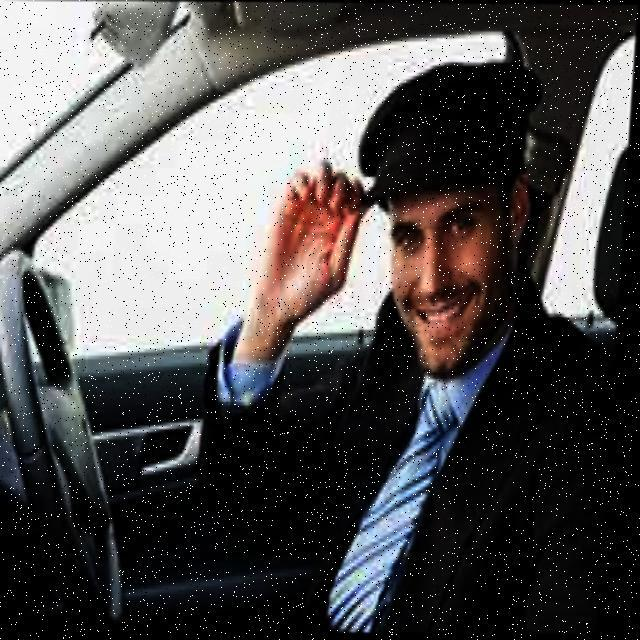noSeatbelt: (284, 251, 626, 640)
